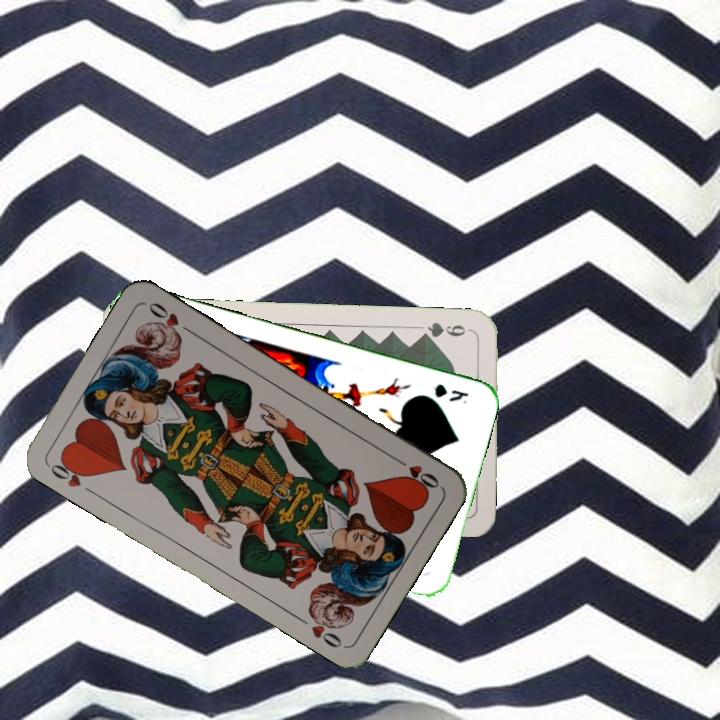G9: (416, 318, 476, 341)
GK: (430, 379, 471, 407)
HO: (390, 453, 442, 493), (44, 453, 93, 490)
